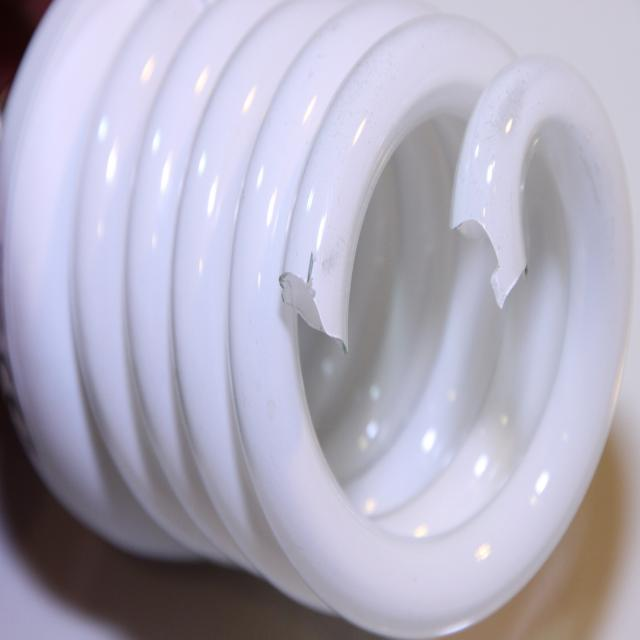Hazard: (0, 0, 622, 631)
